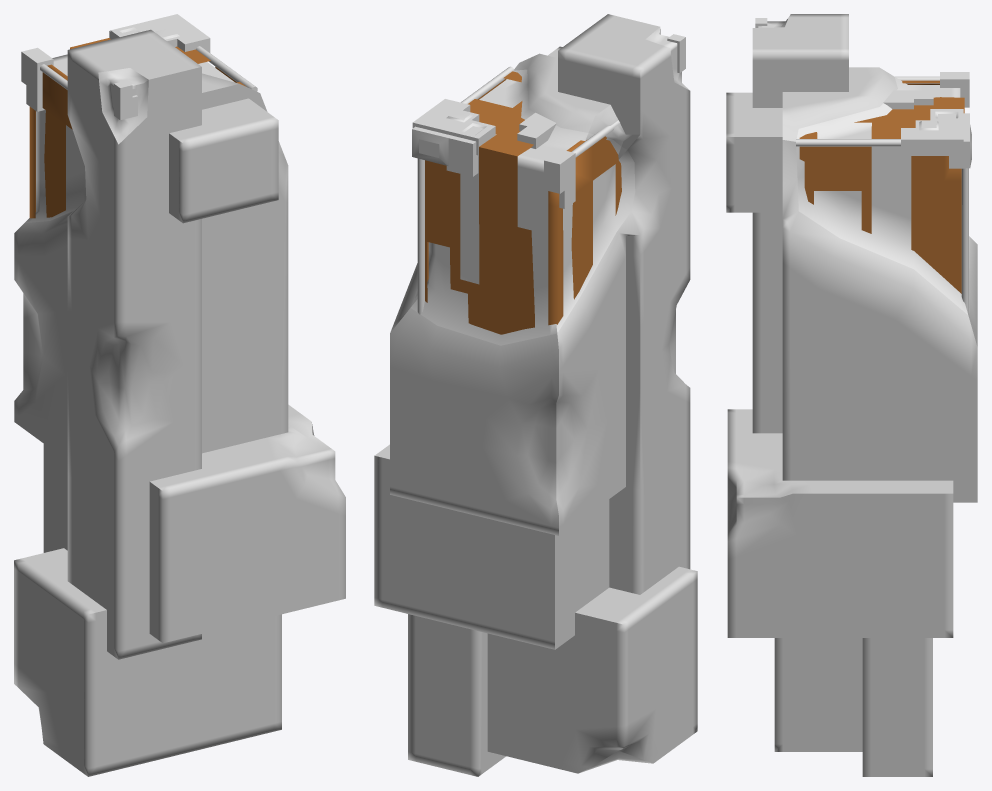
Rendered from VexArchitecture_18.fbx.
The picture shows the model from 3 angles, left to right: view 1: azimuth 30°, elevation 25°; view 2: azimuth 150°, elevation 25°; view 3: azimuth 270°, elevation 25°; orthographic projection. The views are drawn at different scales.
Parts seen in each view (by area): view 1: Mesh_0545.rip, Mesh_0517.rip, Mesh_0493.rip; view 2: Mesh_0545.rip, Mesh_0517.rip, Mesh_0493.rip; view 3: Mesh_0545.rip, Mesh_0517.rip, Mesh_0493.rip.
Boxes of the visible parts, x1,y1,x2,y2 form: Mesh_0545.rip: [14, 29, 345, 776]; Mesh_0517.rip: [21, 14, 257, 222]; Mesh_0493.rip: [29, 38, 246, 218]; Mesh_0545.rip: [374, 14, 697, 776]; Mesh_0517.rip: [410, 27, 689, 345]; Mesh_0493.rip: [425, 71, 621, 334]; Mesh_0545.rip: [726, 14, 977, 776]; Mesh_0517.rip: [755, 18, 971, 315]; Mesh_0493.rip: [799, 80, 964, 293].
Size of the model in its own units: 68.05 by 199 by 67.13.
